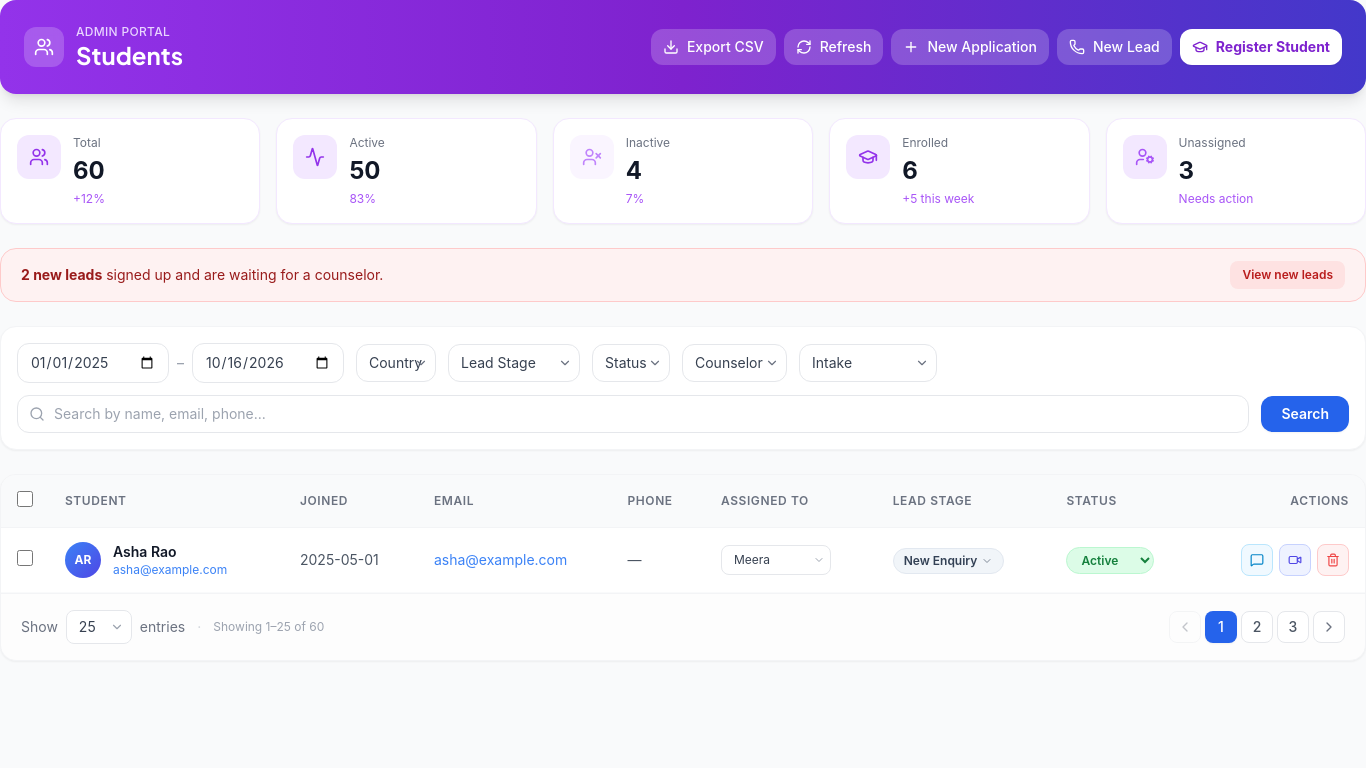
Scenario: AdminStudents › only the newest answer fills the table
Expected: the button "Asha Rao" is shown, [113,542,176,562]
Click the button "2": [1257, 627] box [1241,611,1273,643]
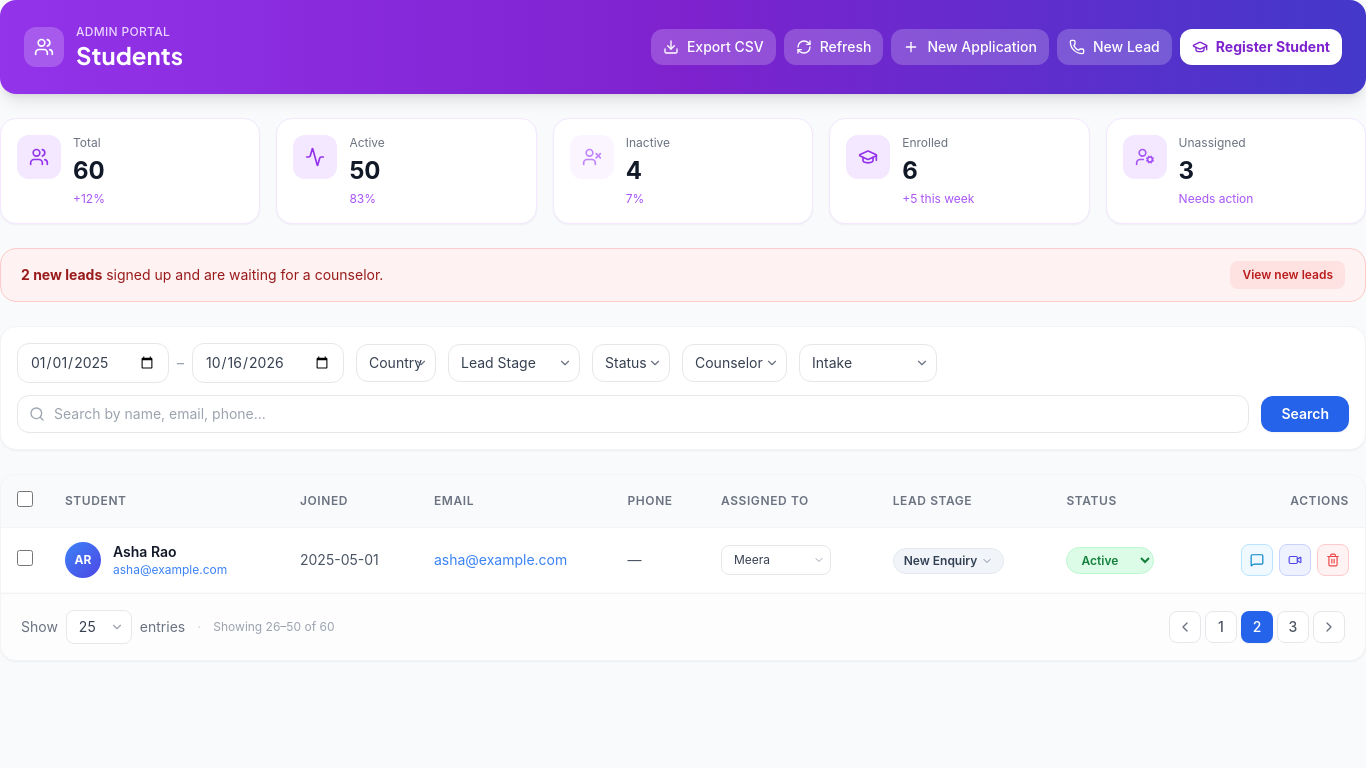
Click the button "3": [1293, 627] box [1277,611,1309,643]
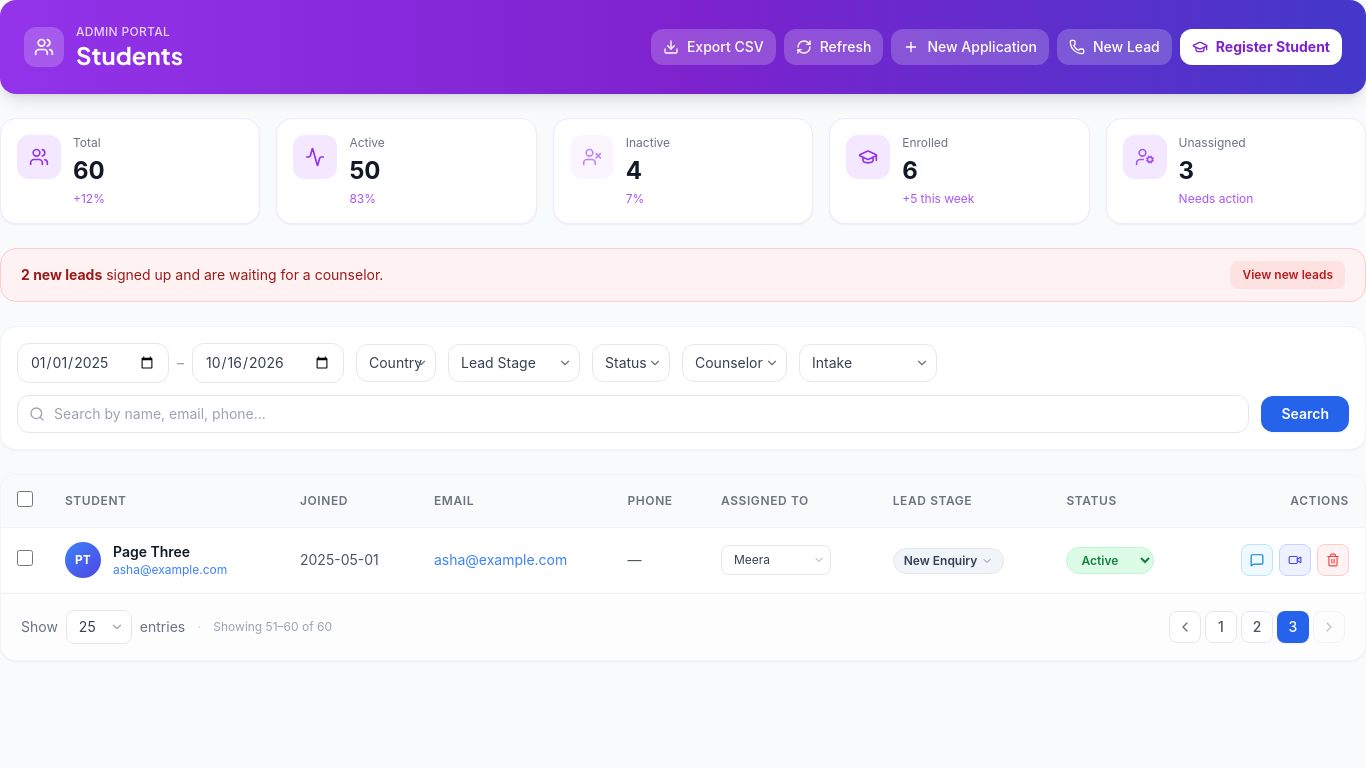
Expected: the button "Page Three" is shown, [113,542,190,562]
